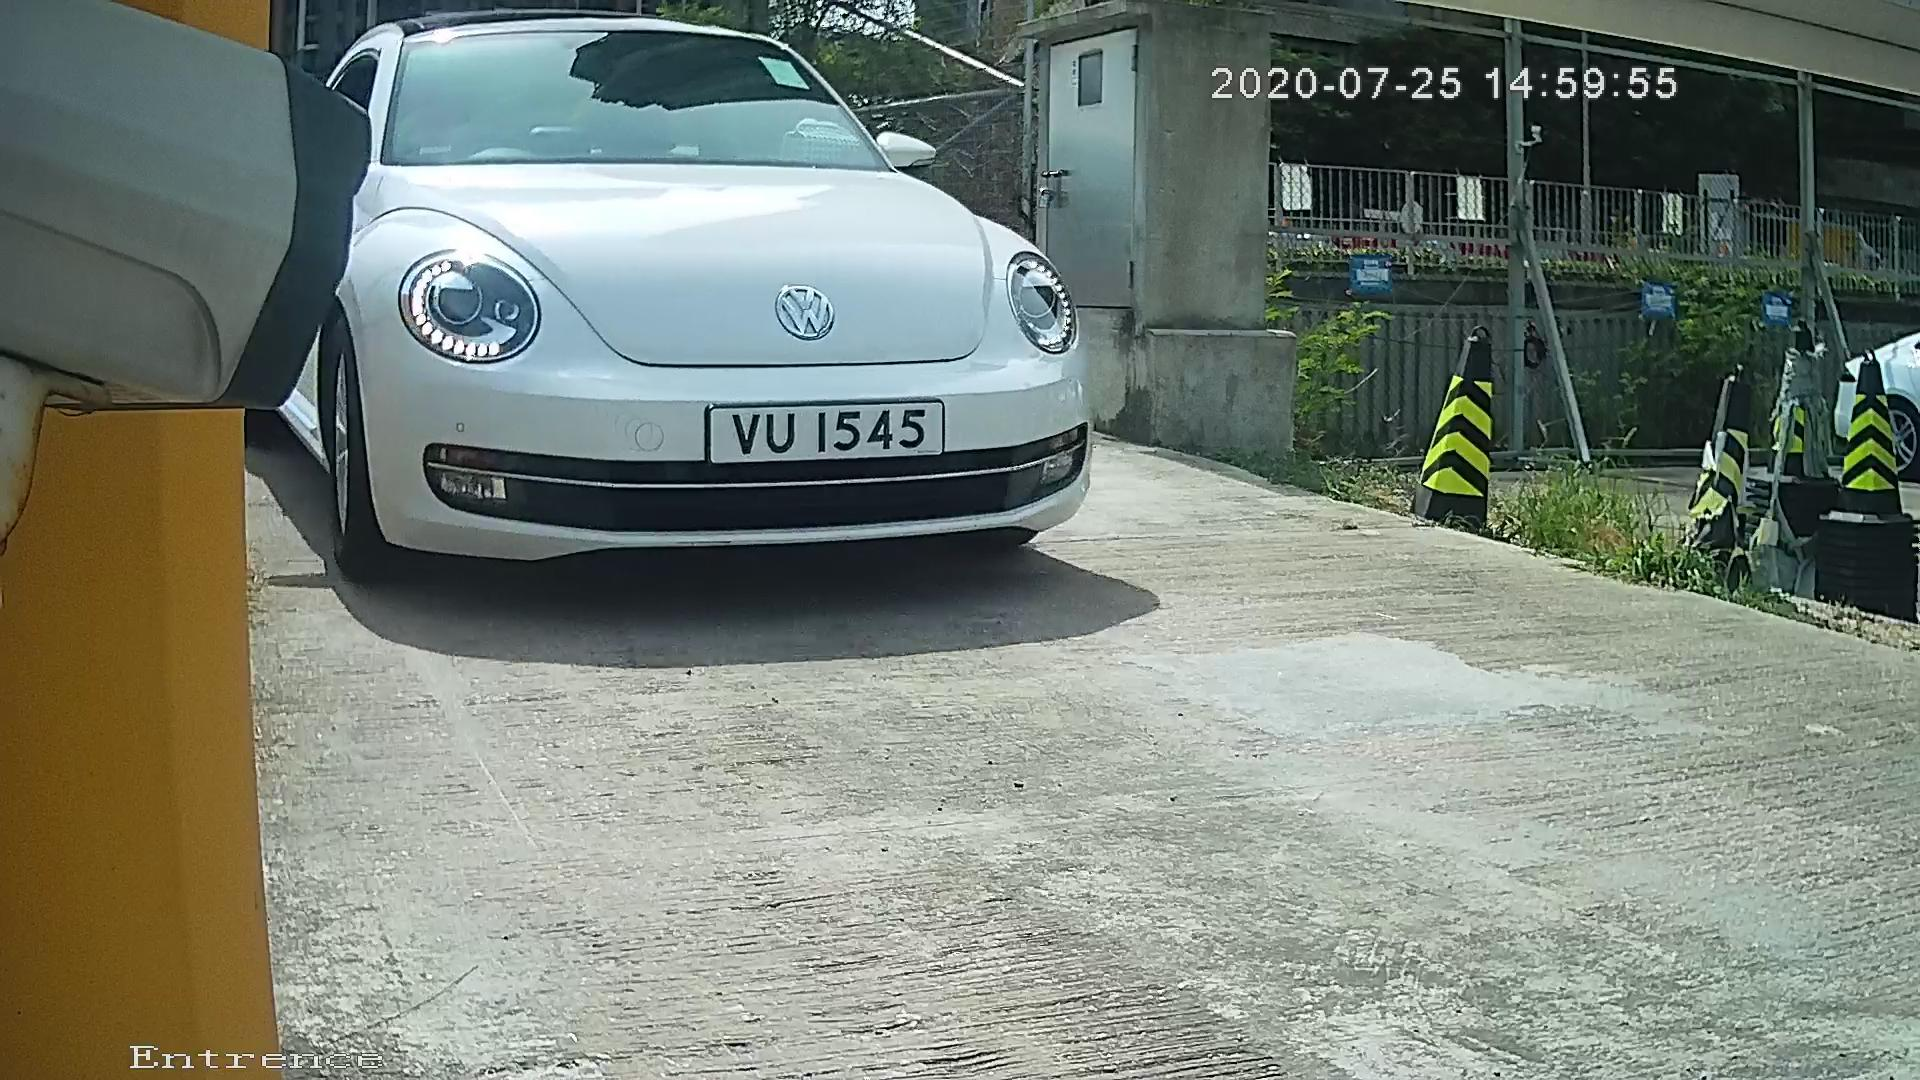License Plate: (652, 386, 969, 473)
